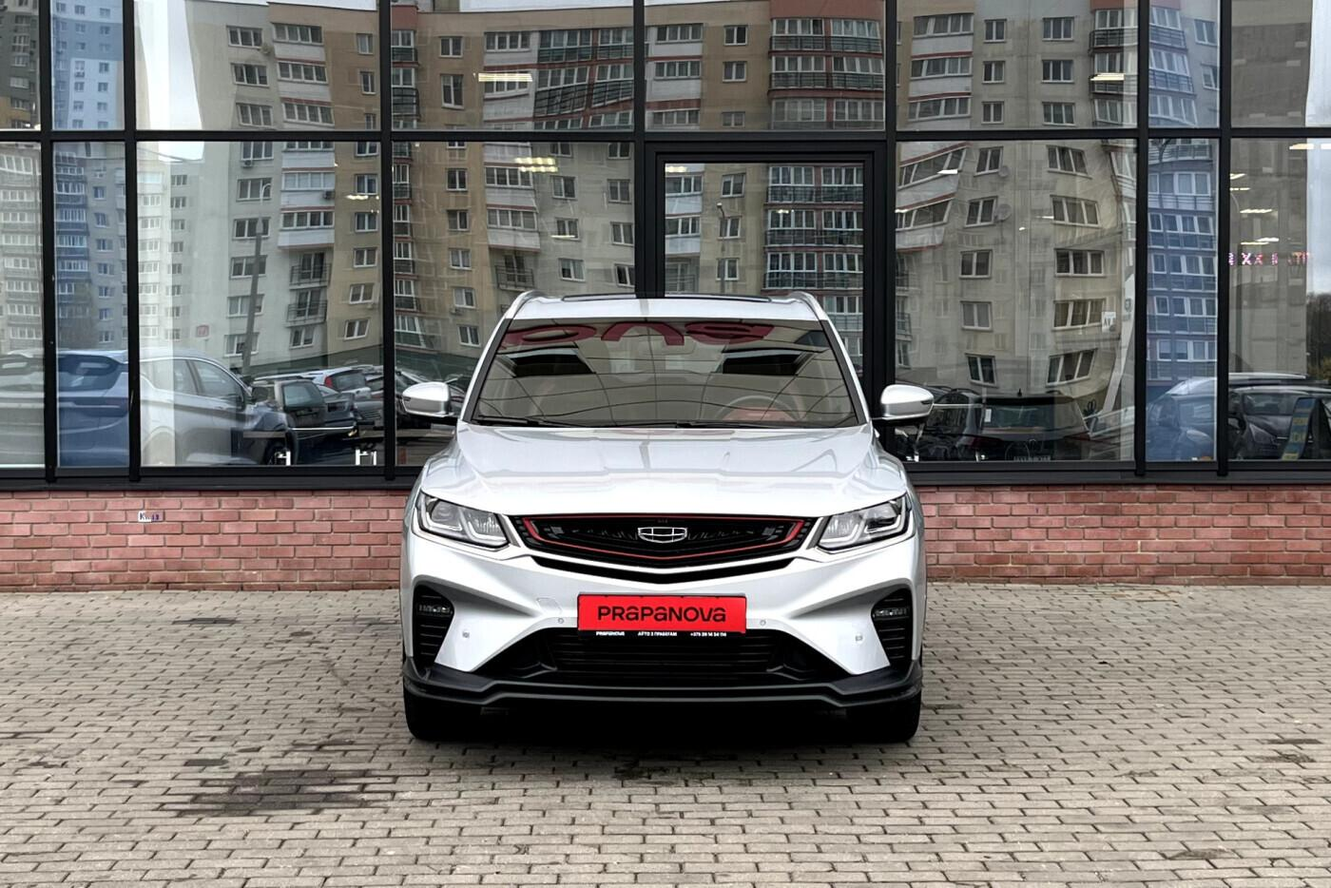Coolray_2019-2023: (400, 291, 933, 742)
